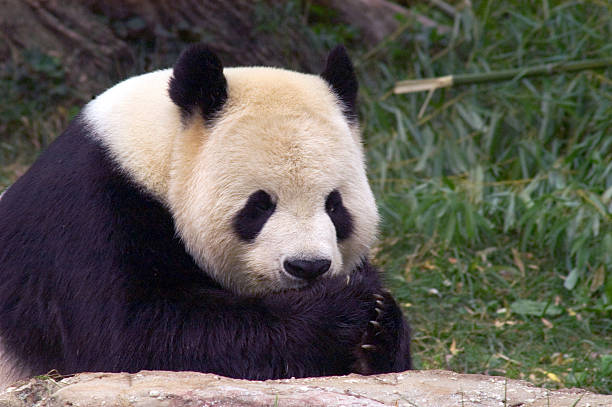panda: (156, 31, 399, 307)
